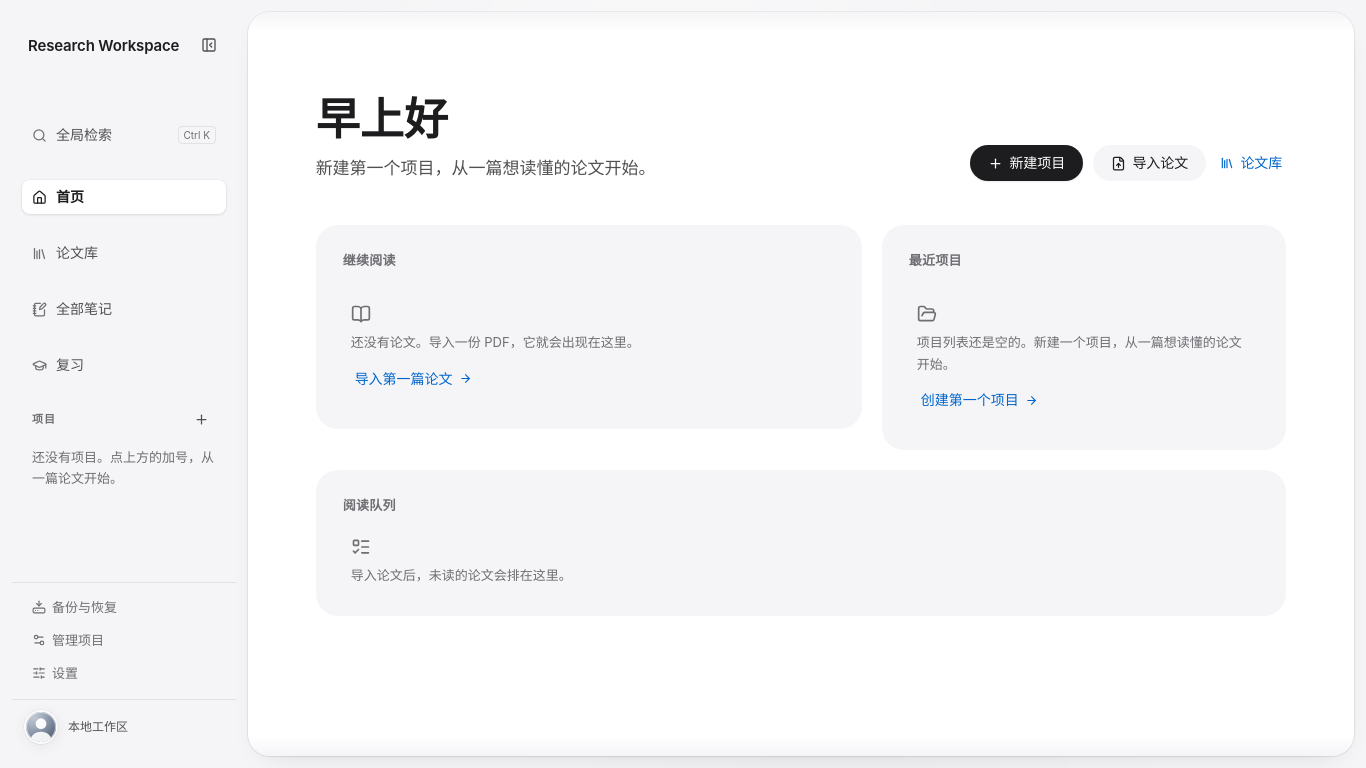
it: creating projects › creates from the keyboard with Enter
The width and height of the screenshot is (1366, 768).
Click the button named "新建项目" at (201, 419), box [186, 404, 216, 434]
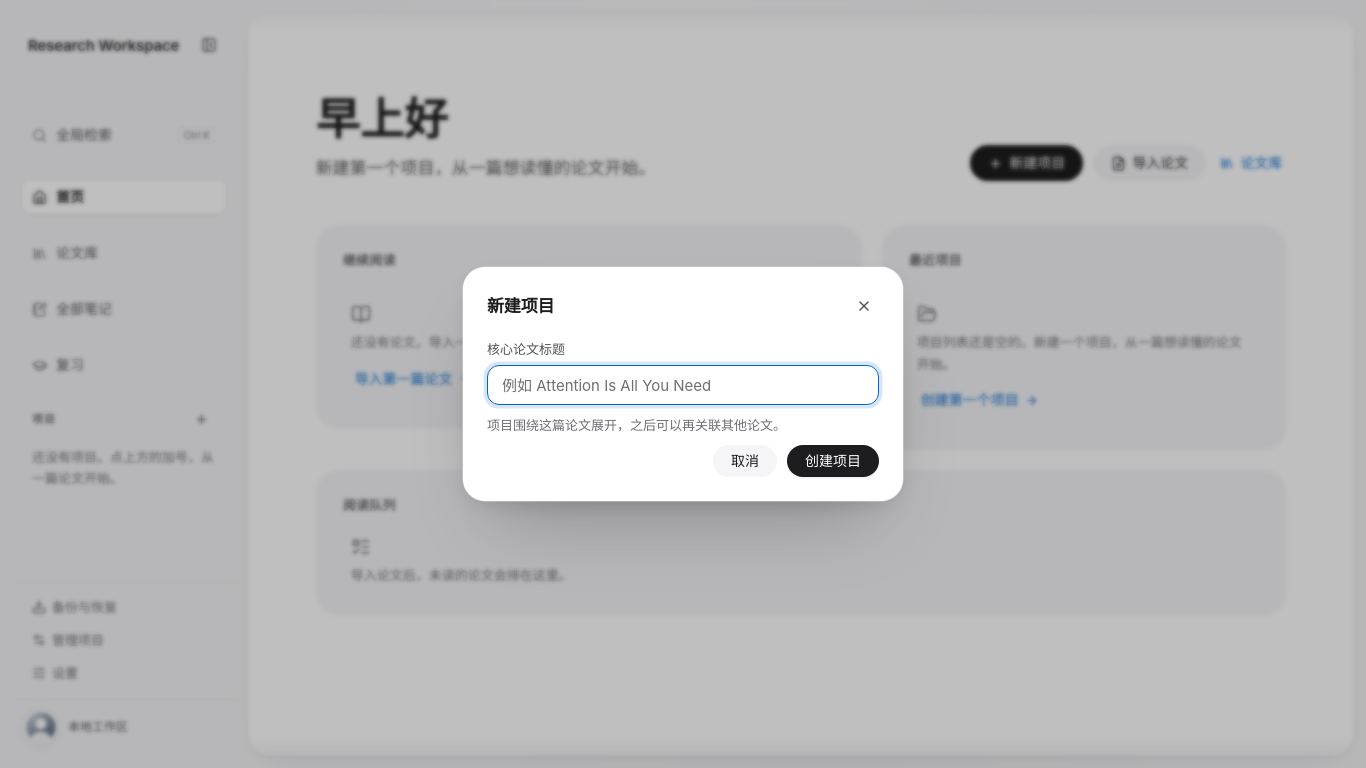
Type keys "ResNet{Enter}"
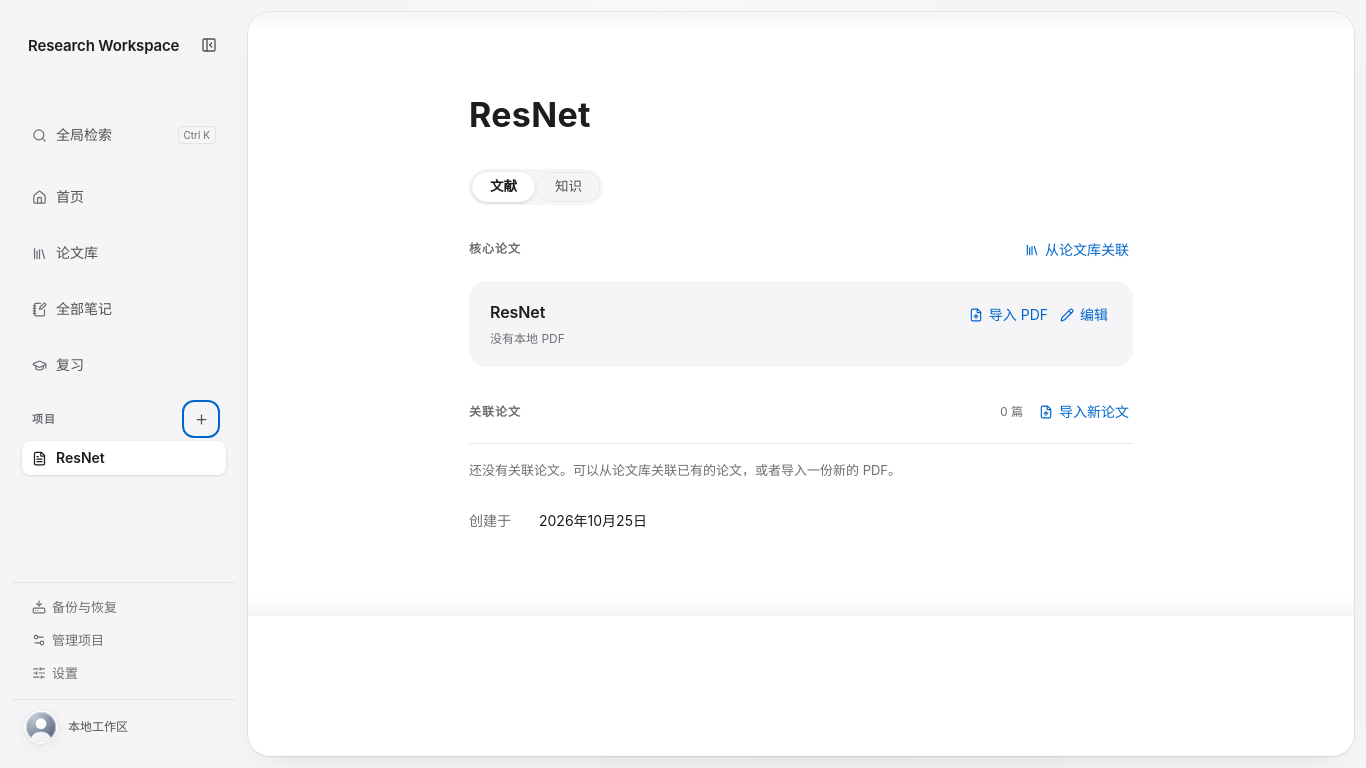
Result: the 1st heading "ResNet" is shown at [469, 94, 591, 135]
